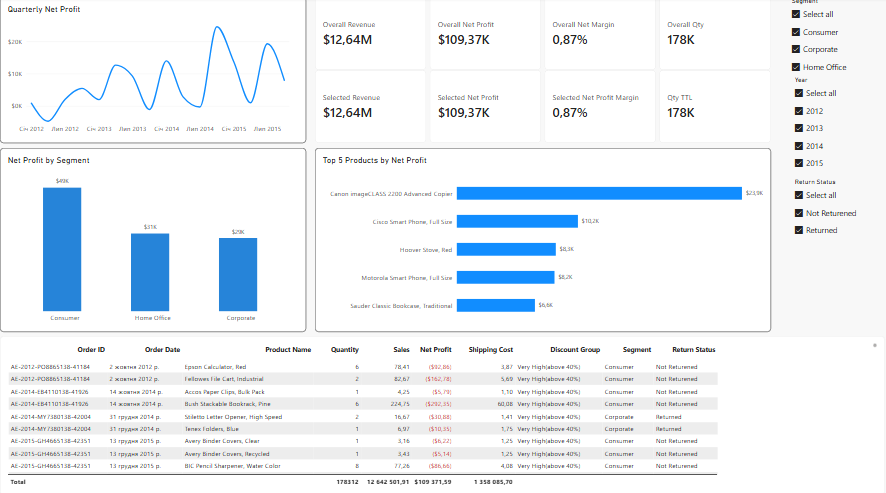

This screenshot's page, from the dashboard's own definition file:
{"tool":"powerbi","page":{"name":"Segment Analysis","canvas":[1920,1080],"ordinal":3},"visuals":[{"type":"lineChart","fields":{"Category":["Dim_Calendar.Date.Variation.Date Hierarchy.Year","Dim_Calendar.Date.Variation.Date Hierarchy.Quarter","Dim_Calendar.Date.Variation.Date Hierarchy.Month","Dim_Calendar.Date.Variation.Date Hierarchy.Day"],"Y":["_Measures.Net Profit TTL $"]},"box":[0,0,663.6,316.6],"z":0},{"type":"clusteredColumnChart","fields":{"Category":["Dim_Customers.Segment"],"Y":["_Measures.Net Profit TTL $"]},"box":[0,327.5,663.6,399],"z":1000},{"type":"slicer","fields":{"Values":["Dim_Customers.Segment"]},"box":[1708.9,0,210.4,171.3],"z":2000},{"type":"clusteredBarChart","title":"Top 5 Products by Net Profit TTL $","fields":{"Category":["Dim_Product.Product Name"],"Y":["_Measures.Net Profit TTL $"]},"box":[683.1,327.5,988.9,399],"z":3000},{"type":"slicer","fields":{"Values":["Dim_Calendar.Date.Variation.Date Hierarchy.Year"]},"box":[1715.4,171.3,203.9,221.2],"z":4000},{"type":"tableEx","fields":{"Values":["Fact_Orders.Order ID","Fact_Orders.Order Date","Dim_Product.Product Name","Sum(Fact_Orders.Quantity)","Sum(Fact_Orders.Sales)","Sum(Fact_Orders.Profit)","Sum(Fact_Orders.Shipping Cost)","Sum(Fact_Orders.Discount)","Dim_Customers.Segment","Dim_Returns.Returned"]},"box":[0,735.2,1919.3,344.8],"z":5000},{"type":"slicer","fields":{"Values":["Dim_Returns.Returned"]},"box":[1715.4,392.5,203.9,141],"z":6000},{"type":"cardVisual","fields":{"Data":["_Measures.Revenue TTL $","_Measures.Net Profit TTL $","_Measures.Profit Margin %","_Measures.Qty TTL"]},"box":[683.1,158.3,988.9,158.3],"z":7000},{"type":"cardVisual","fields":{"Data":["_Measures.ALL Revenue TTL $","_Measures.ALL Net Profit $","_Measures.ALL Profit Margin %","_Measures.ALL Qty"]},"box":[683.1,0,988.9,158.3],"z":8000}]}

Visuals, with their boxes in screenshot pixels (x1, y1, x2, y2), scaled from the page's 1920x1080 canvas onto the 886x493 screenshot:
lineChart - Dim_Calendar.Date.Variation.Date Hierarchy.Year x Dim_Calendar.Date.Variation.Date Hierarchy.Quarter: pyautogui.locateOnScreen(0, 0, 306, 145)
clusteredColumnChart - Dim_Customers.Segment x _Measures.Net Profit TTL $: pyautogui.locateOnScreen(0, 149, 306, 332)
slicer - Dim_Customers.Segment: pyautogui.locateOnScreen(789, 0, 885, 78)
"Top 5 Products by Net Profit TTL $" clusteredBarChart: pyautogui.locateOnScreen(315, 149, 772, 332)
slicer - Dim_Calendar.Date.Variation.Date Hierarchy.Year: pyautogui.locateOnScreen(792, 78, 885, 179)
tableEx - Fact_Orders.Order ID x Fact_Orders.Order Date: pyautogui.locateOnScreen(0, 336, 885, 492)
slicer - Dim_Returns.Returned: pyautogui.locateOnScreen(792, 179, 885, 244)
cardVisual - _Measures.Revenue TTL $ x _Measures.Net Profit TTL $: pyautogui.locateOnScreen(315, 72, 772, 145)
cardVisual - _Measures.ALL Revenue TTL $ x _Measures.ALL Net Profit $: pyautogui.locateOnScreen(315, 0, 772, 72)
